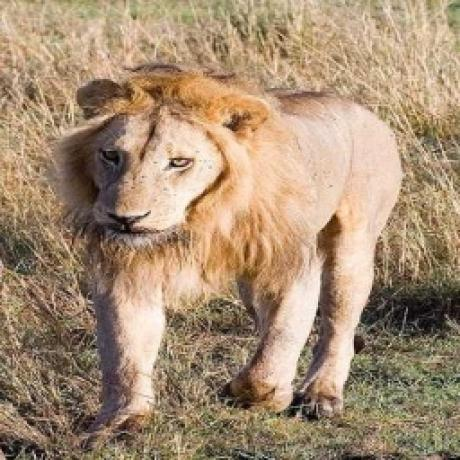Lion: (50, 65, 405, 429)
